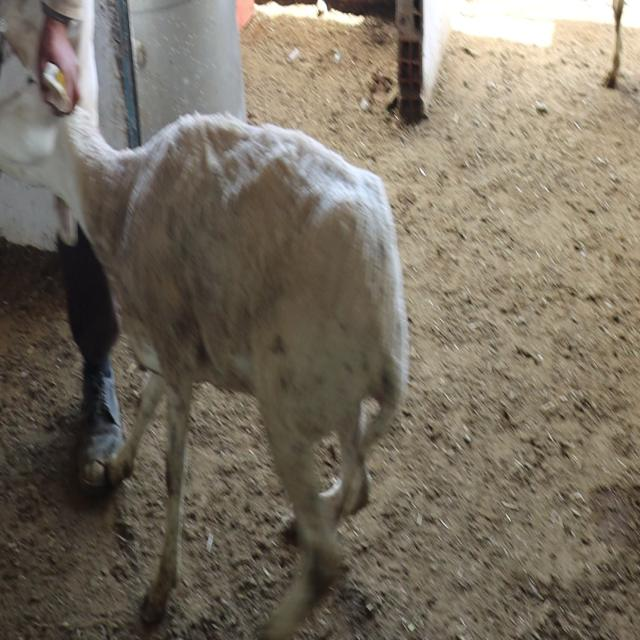Score_1: (0, 63, 408, 639)
